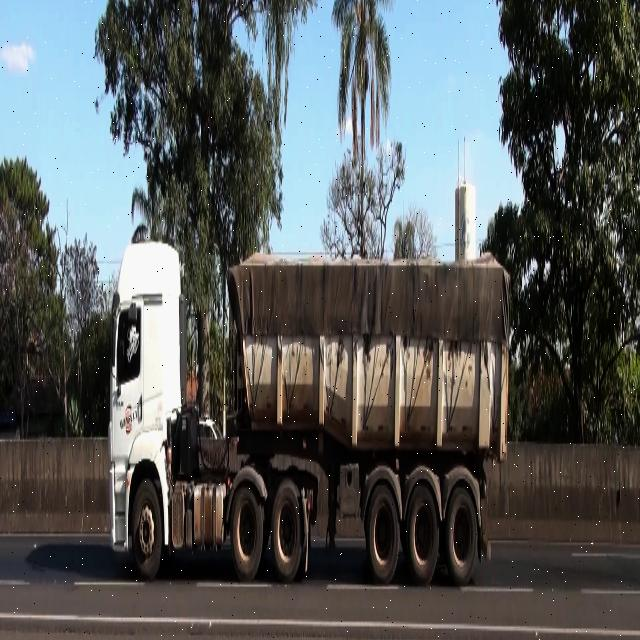-axle: (444, 482, 480, 584), (230, 476, 264, 583), (271, 479, 306, 581), (408, 476, 440, 584), (130, 481, 162, 581), (368, 481, 399, 584)
